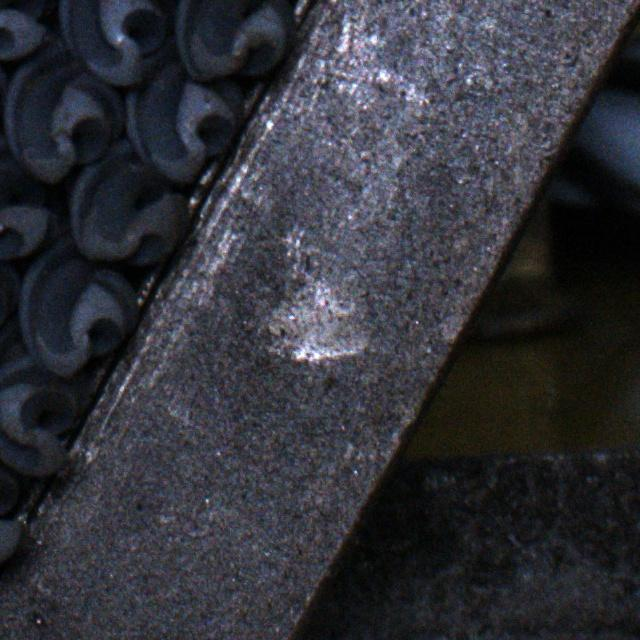tool_b: (18, 234, 140, 376), (2, 42, 122, 183), (69, 137, 189, 265), (125, 61, 242, 182), (0, 314, 79, 476), (58, 0, 173, 84), (174, 0, 290, 81), (0, 134, 52, 259)
